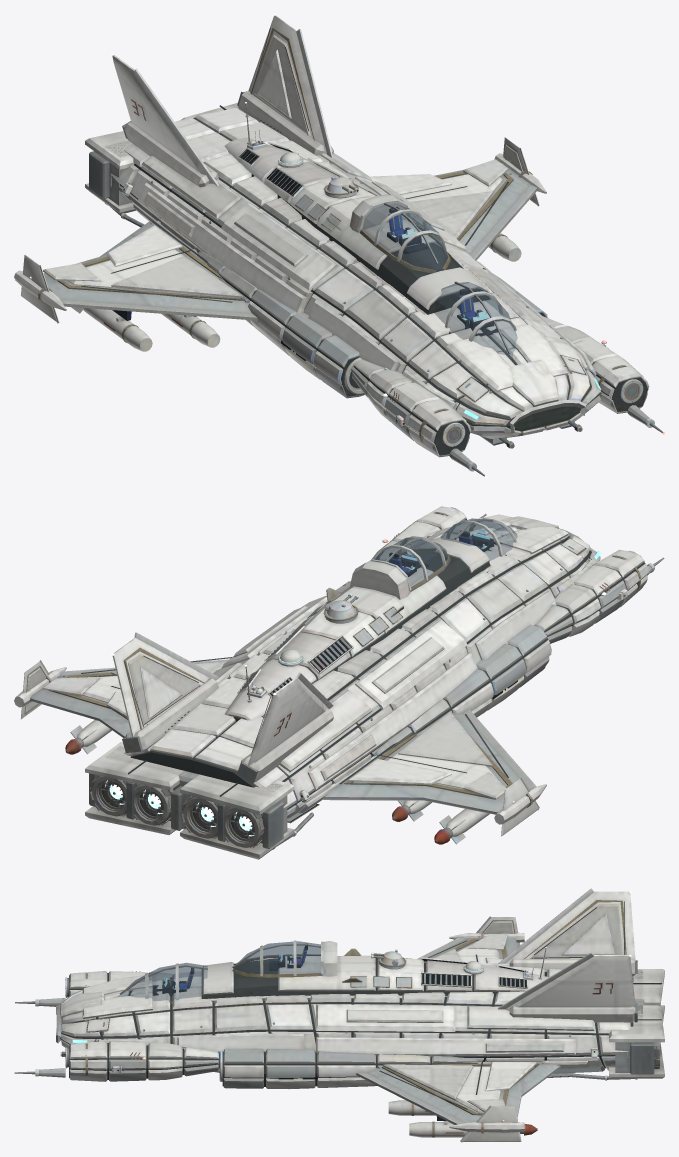
File: hammerhead_bomber.glb
The picture shows the model from 3 angles, top to bottom: view 1: azimuth 30°, elevation 25°; view 2: azimuth 150°, elevation 25°; view 3: azimuth 270°, elevation 25°; orthographic projection. The views are drawn at different scales.
Visible parts, largest first — view 1: hammerhead_bomber_hull, hammerhead_bomber_glass; view 2: hammerhead_bomber_hull, hammerhead_bomber_glass, hammerhead_bomber_plasma; view 3: hammerhead_bomber_hull, hammerhead_bomber_glass.
Boxes of the visible parts, box(x1,y1,x2,y2) form: hammerhead_bomber_hull: box(14, 14, 664, 477); hammerhead_bomber_glass: box(362, 203, 517, 360); hammerhead_bomber_hull: box(14, 506, 664, 859); hammerhead_bomber_glass: box(374, 518, 517, 586); hammerhead_bomber_plasma: box(105, 780, 254, 836); hammerhead_bomber_hull: box(14, 888, 664, 1142); hammerhead_bomber_glass: box(118, 941, 320, 1001).
Bounding box in the file's own units: 15.24 × 5.3 × 21.57.
3 materials, 1 textured.
